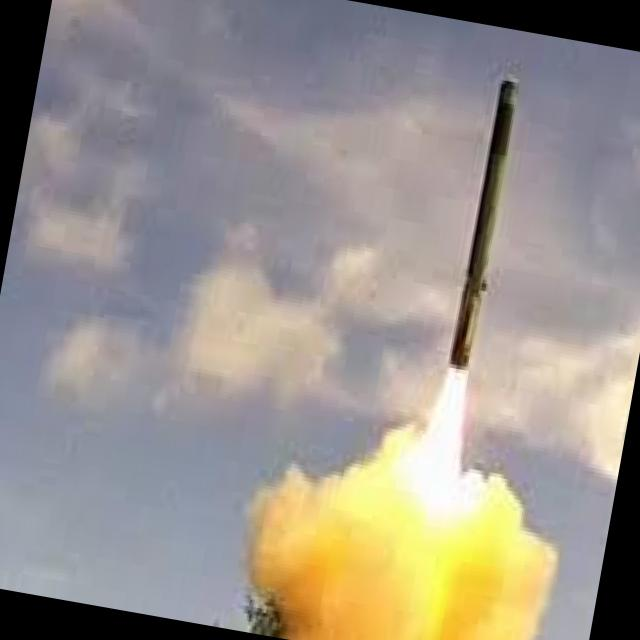rocket: (406, 68, 533, 553)
